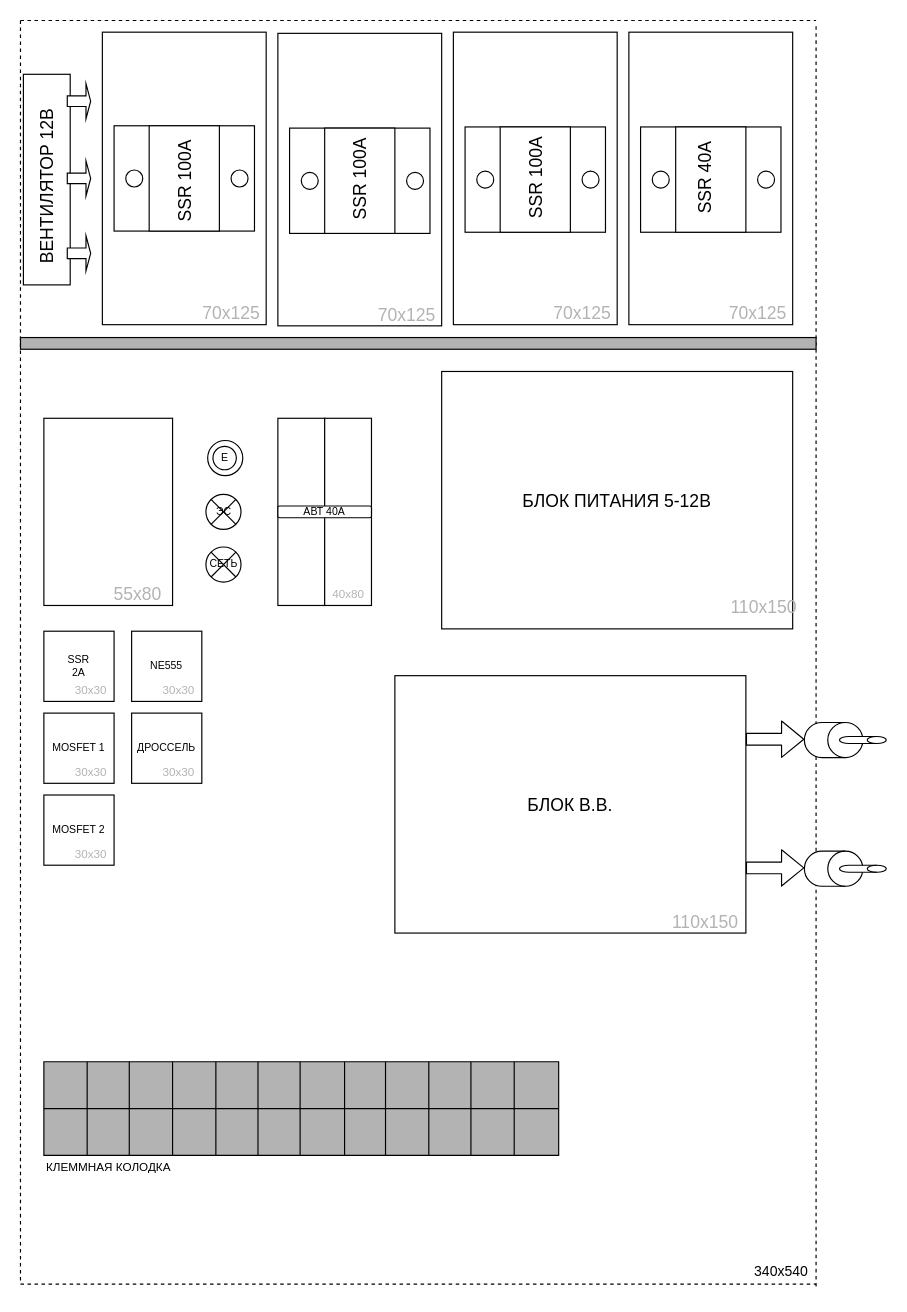
Image size: 907x1312. Some labels were removed from this diagram. Here are the shapes that lost their labels. From the top down, the box of each, then its label:
(43, 417, 173, 605): TFT 3,5"
(43, 1061, 559, 1155): 220x40
